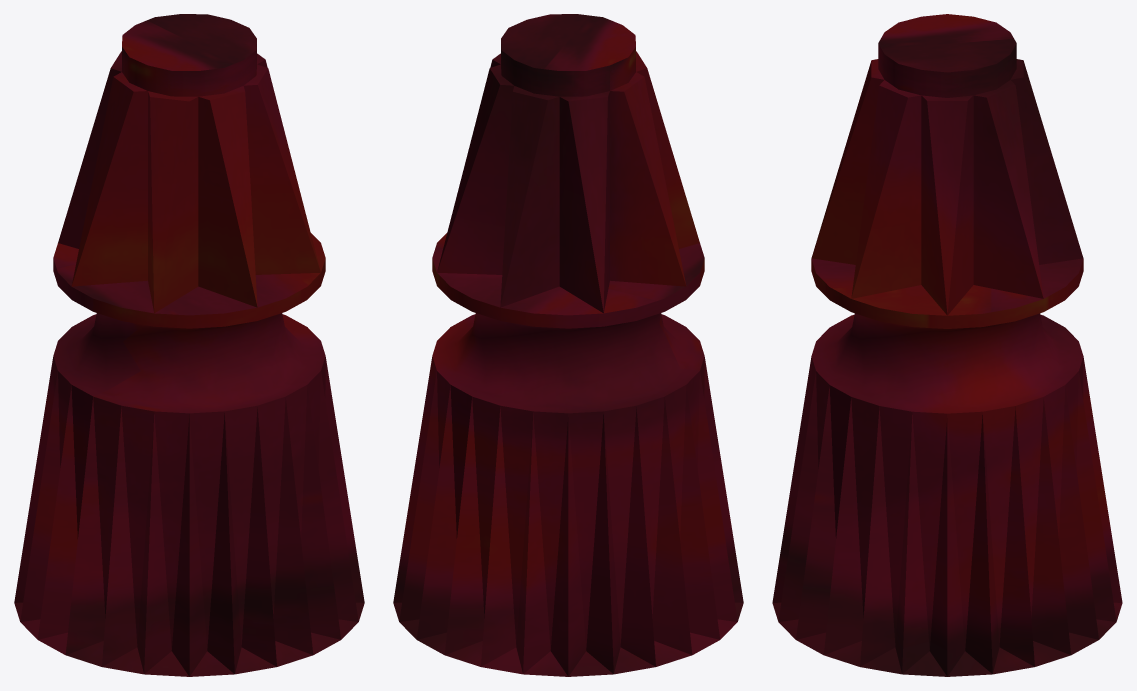
The model's file is PegPlasticT5.fbx.
3 renders of one model, left to right at view 1: azimuth 30°, elevation 25°; view 2: azimuth 150°, elevation 25°; view 3: azimuth 270°, elevation 25°, orthographic.
Parts seen in each view (by area): view 1: PegPlasticT5; view 2: PegPlasticT5; view 3: PegPlasticT5.
Part boxes in pixels (x1=…): PegPlasticT5: x1=14, y1=14, x2=364, y2=676; PegPlasticT5: x1=393, y1=14, x2=743, y2=676; PegPlasticT5: x1=772, y1=14, x2=1122, y2=676.
Size of the model in its own units: 1.85 by 3.26 by 1.85.
1 material, 1 textured.
